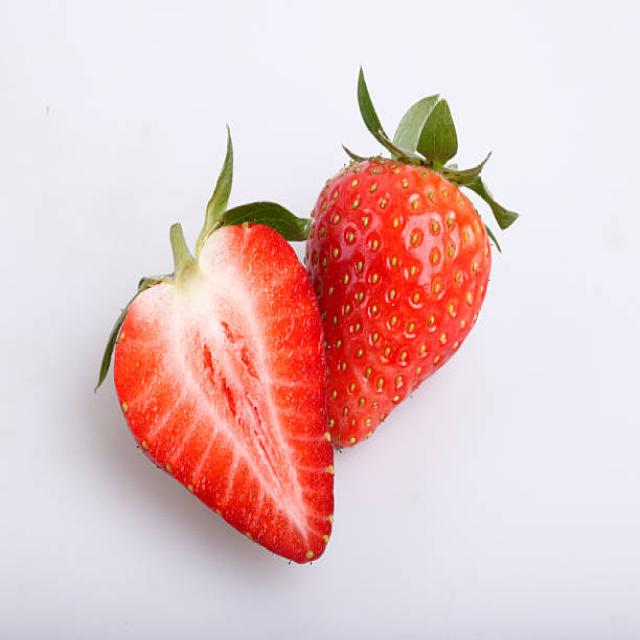Healthy Fruit: (114, 222, 336, 561), (307, 163, 490, 449)
